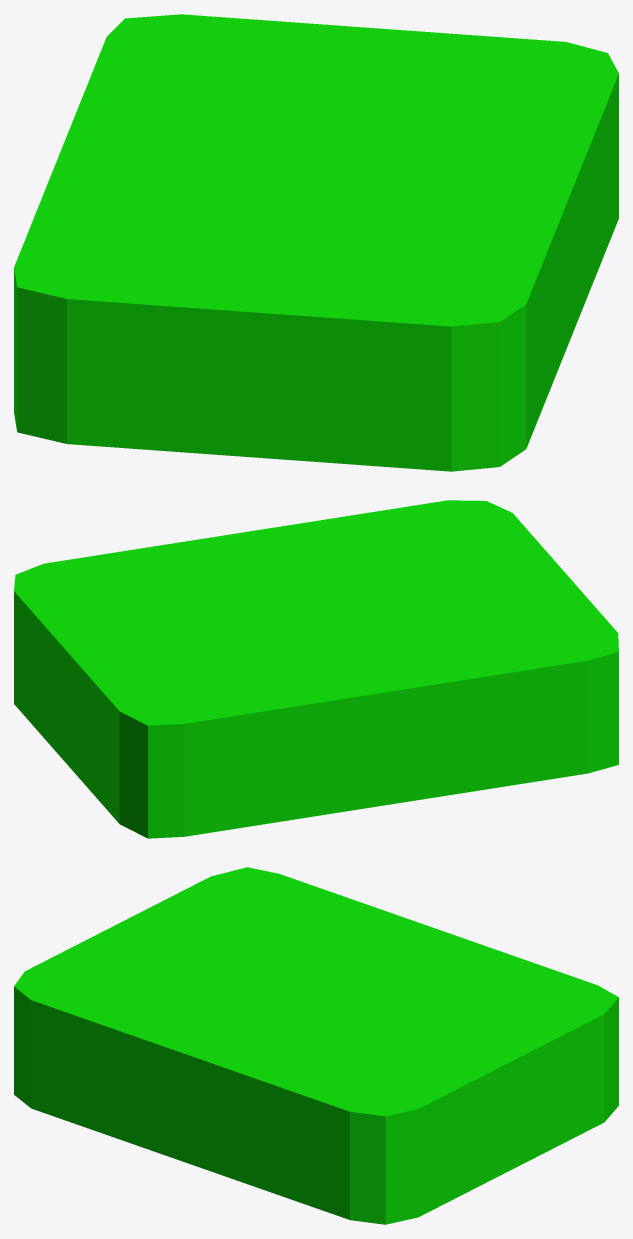
3 views of the same model, one above another, from view 1: azimuth 30°, elevation 25°; view 2: azimuth 150°, elevation 25°; view 3: azimuth 270°, elevation 25° (orthographic). The views are drawn at different scales.
Parts seen in each view (by area): view 1: Cube.002; view 2: Cube.002; view 3: Cube.002.
Part boxes in pixels (bbox=[...]): Cube.002: bbox=[14, 14, 618, 471]; Cube.002: bbox=[14, 500, 618, 838]; Cube.002: bbox=[14, 867, 618, 1224].
Bounding box in the file's own units: 1120 × 227 × 1149.
